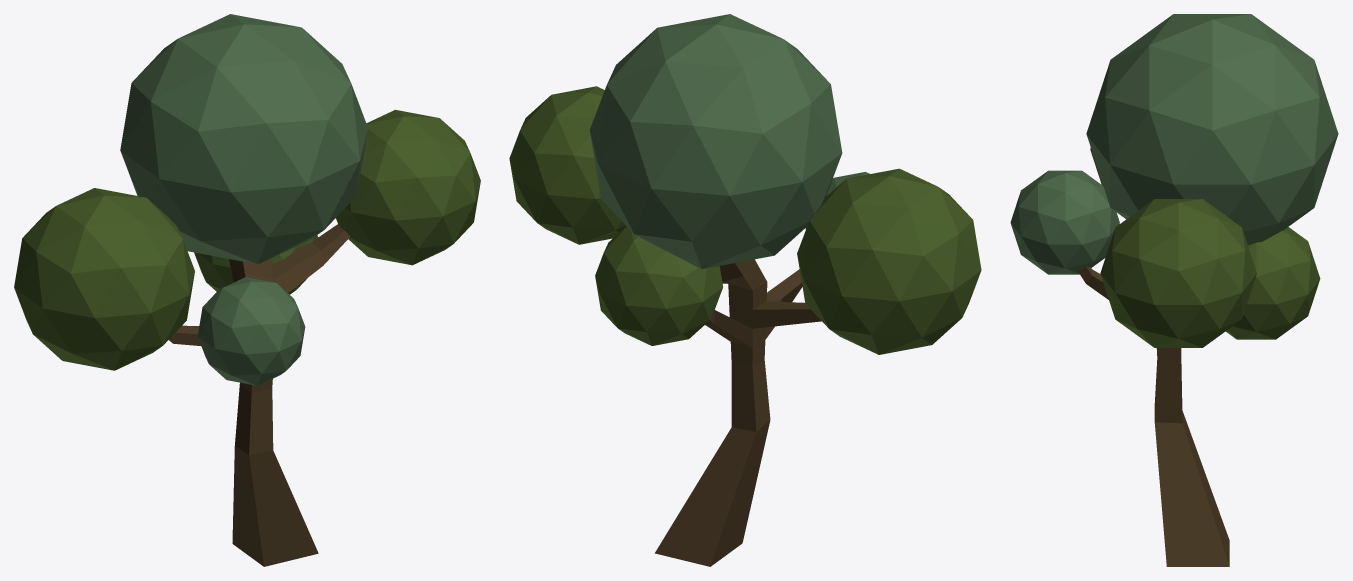
Rendered from tree.gltf.
3 renders of one model, left to right at view 1: azimuth 30°, elevation 25°; view 2: azimuth 150°, elevation 25°; view 3: azimuth 270°, elevation 25°, orthographic. The views are drawn at different scales.
Visible parts, largest first — view 1: Icosphere, Icosphere1, Cube1, Cube, Icosphere2, Icosphere3; view 2: Icosphere, Icosphere1, Cube, Cube1, Icosphere3; view 3: Icosphere, Cube1, Cube, Icosphere2, Icosphere3.
Part boxes in pixels (x1=…): Icosphere: x1=120, y1=14, x2=367, y2=264; Icosphere1: x1=14, y1=188, x2=194, y2=370; Cube1: x1=336, y1=109, x2=480, y2=265; Cube: x1=169, y1=224, x2=350, y2=566; Icosphere2: x1=197, y1=277, x2=305, y2=385; Icosphere3: x1=194, y1=235, x2=318, y2=294; Icosphere: x1=589, y1=14, x2=842, y2=269; Icosphere1: x1=797, y1=168, x2=981, y2=354; Cube: x1=655, y1=259, x2=821, y2=566; Cube1: x1=509, y1=86, x2=626, y2=244; Icosphere3: x1=595, y1=226, x2=722, y2=345; Icosphere: x1=1086, y1=14, x2=1338, y2=245; Cube1: x1=1100, y1=199, x2=1256, y2=347; Cube: x1=1078, y1=266, x2=1229, y2=566; Icosphere2: x1=1010, y1=170, x2=1119, y2=274; Icosphere3: x1=1226, y1=227, x2=1320, y2=339.
Size of the model in its own units: 4.1 by 4.69 by 2.67.
